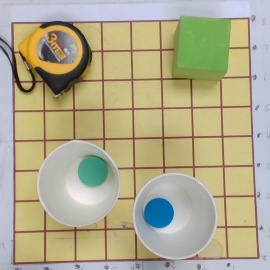cup_blue: (133, 172, 217, 260)
cup_green: (36, 140, 122, 226)
